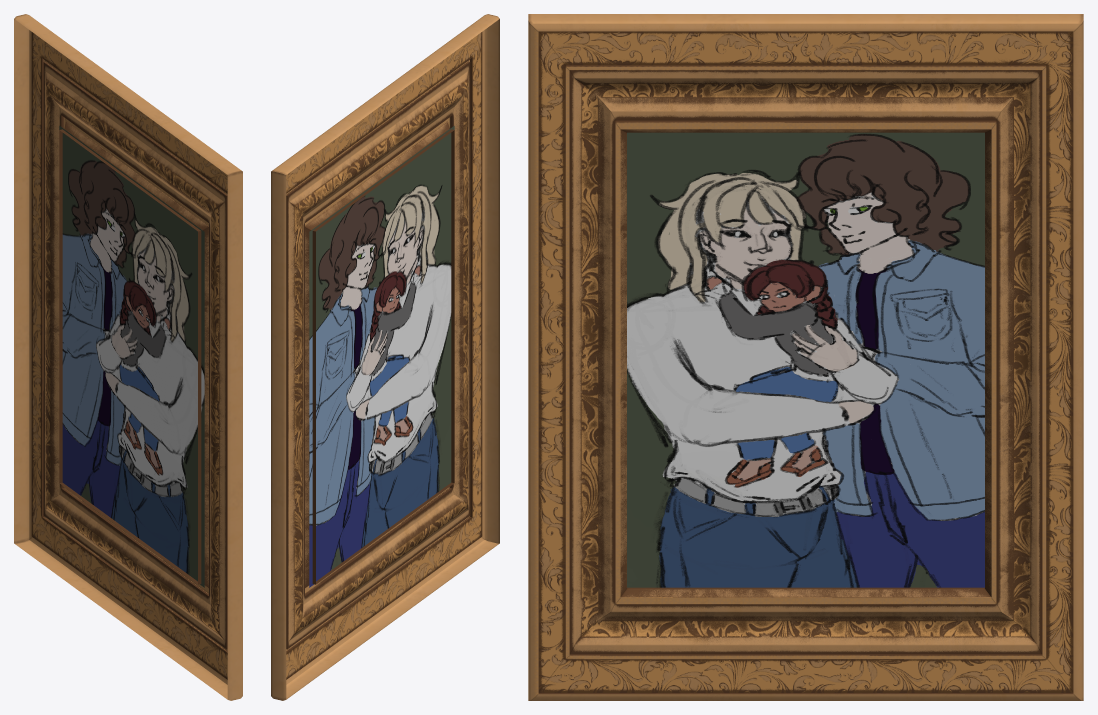
The model's file is frame.fbx.
3 views of the same model, side by side, from view 1: azimuth 30°, elevation 25°; view 2: azimuth 150°, elevation 25°; view 3: azimuth 270°, elevation 25° (orthographic). The views are drawn at different scales.
Visible parts, largest first — view 1: frame, painting; view 2: frame, painting; view 3: frame, painting.
Part boxes in pixels (left/top/right/bottom): frame: left=14, top=14, right=242, bottom=700; painting: left=59, top=126, right=204, bottom=587; frame: left=271, top=14, right=499, bottom=700; painting: left=309, top=126, right=454, bottom=587; frame: left=528, top=14, right=1083, bottom=700; painting: left=627, top=132, right=984, bottom=587.
Size of the model in its own units: 1.16 by 34.05 by 25.17.
2 materials, 2 textured.
